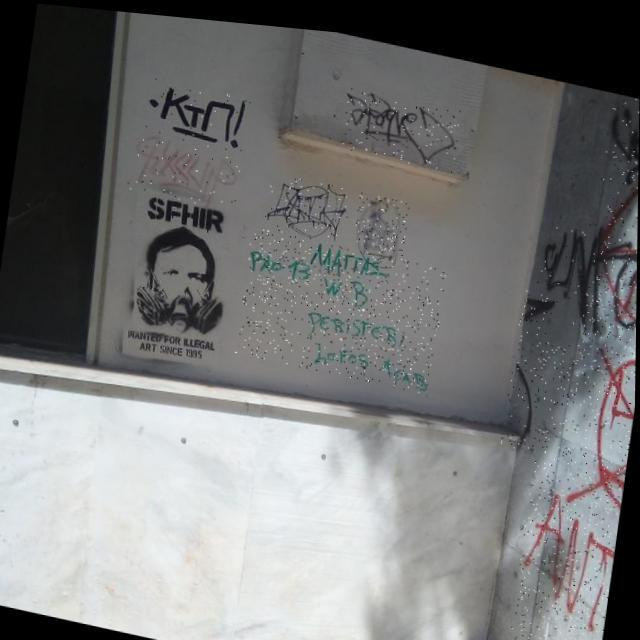-: (508, 323, 637, 640), (235, 220, 448, 387), (532, 200, 638, 330), (340, 79, 462, 165), (126, 124, 245, 208), (590, 128, 639, 316), (502, 277, 556, 444), (141, 72, 251, 146), (263, 164, 352, 242), (575, 276, 637, 376), (349, 183, 410, 270), (600, 78, 640, 178)
